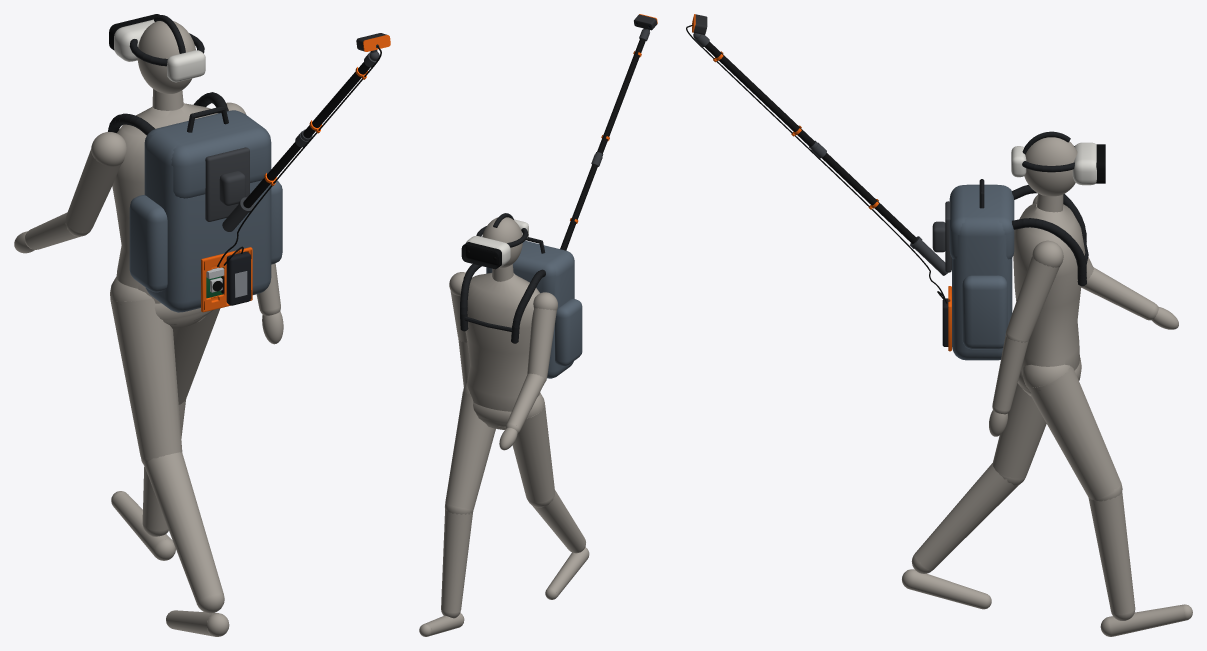
3 renders of one model, left to right at view 1: azimuth 30°, elevation 25°; view 2: azimuth 150°, elevation 25°; view 3: azimuth 270°, elevation 25°, orthographic. The views are drawn at different scales.
Visible parts, largest first — view 1: backpack, man_thigh_R, man_shin_R, backpack_flap, man_torso, backpack_side_-1, man_uarm_R, man_head, man_thigh_L, mount_plate, pole_carbon, man_foot_L (+15 smaller); view 2: man_torso, man_thigh_L, man_thigh_R, man_shin_L, backpack_side_-1, backpack_flap, man_uarm_R, pole_carbon, man_shin_R, backpack, man_farm_R, man_head (+10 smaller); view 3: man_torso, man_thigh_L, backpack, man_shin_R, man_shin_L, backpack_side_1, man_thigh_R, backpack_flap, man_head, man_uarm_L, pole_carbon, man_foot_R (+5 smaller).
Part boxes in pixels (x1=…): backpack: x1=144, y1=112, x2=271, y2=312; man_thigh_R: x1=110, y1=276, x2=182, y2=464; man_shin_R: x1=144, y1=452, x2=224, y2=613; backpack_flap: x1=144, y1=110, x2=271, y2=198; man_torso: x1=112, y1=103, x2=216, y2=329; backpack_side_-1: x1=129, y1=195, x2=167, y2=292; man_uarm_R: x1=65, y1=150, x2=121, y2=236; man_head: x1=137, y1=21, x2=195, y2=93; man_thigh_L: x1=173, y1=308, x2=220, y2=404; mount_plate: x1=205, y1=147, x2=249, y2=221; pole_carbon: x1=243, y1=62, x2=370, y2=208; man_foot_L: x1=111, y1=491, x2=175, y2=560; man_torso: x1=465, y1=273, x2=540, y2=429; man_thigh_L: x1=445, y1=383, x2=495, y2=514; man_thigh_R: x1=512, y1=393, x2=554, y2=507; man_shin_L: x1=441, y1=509, x2=472, y2=618; backpack_side_-1: x1=555, y1=298, x2=582, y2=366; backpack_flap: x1=486, y1=240, x2=574, y2=295; man_uarm_R: x1=527, y1=308, x2=556, y2=381; pole_carbon: x1=560, y1=38, x2=645, y2=250; man_shin_R: x1=532, y1=490, x2=585, y2=553; backpack: x1=547, y1=252, x2=574, y2=378; man_farm_R: x1=505, y1=373, x2=545, y2=433; man_head: x1=482, y1=217, x2=522, y2=268; man_torso: x1=1013, y1=202, x2=1085, y2=395; man_thigh_L: x1=1022, y1=364, x2=1122, y2=501; backpack: x1=952, y1=184, x2=1012, y2=360; man_shin_R: x1=911, y1=463, x2=1017, y2=573; man_shin_L: x1=1088, y1=491, x2=1135, y2=620; backpack_side_1: x1=962, y1=275, x2=1007, y2=349; man_thigh_R: x1=992, y1=383, x2=1046, y2=485; backpack_flap: x1=949, y1=185, x2=1014, y2=259; man_head: x1=1024, y1=137, x2=1077, y2=196; man_uarm_L: x1=1005, y1=256, x2=1059, y2=342; pole_carbon: x1=704, y1=41, x2=917, y2=243; man_foot_R: x1=902, y1=569, x2=991, y2=609.
Size of the model in its own units: 0.5458 by 2.21 by 1.68.
